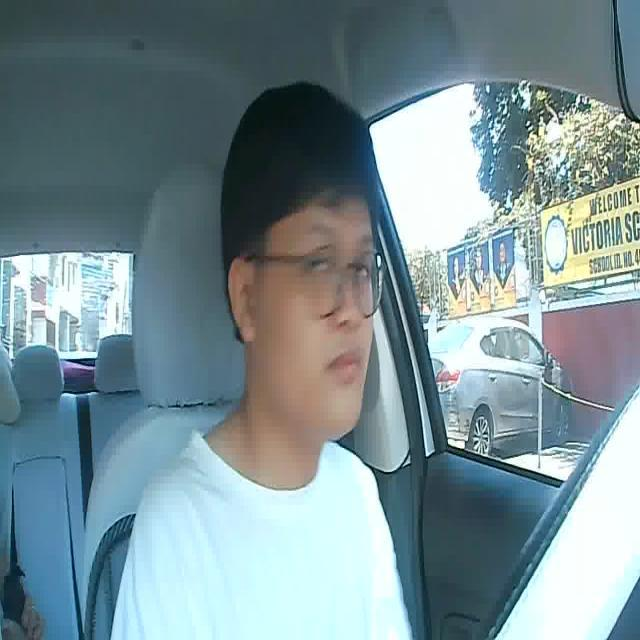Eye-Open: (304, 253, 331, 279), (349, 255, 375, 281)
Inattentive: (219, 80, 378, 442)
Normal: (330, 349, 366, 383)
